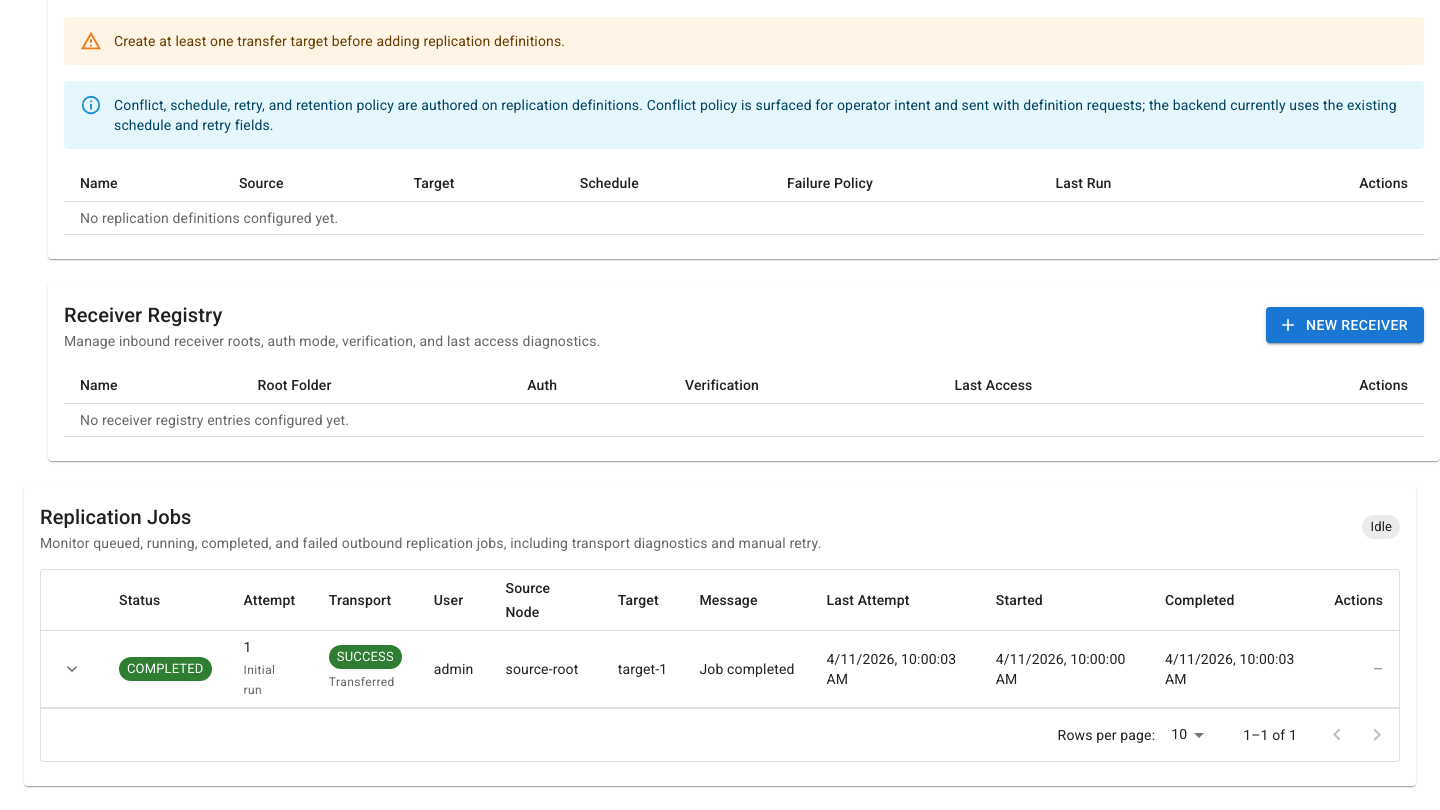
Test case: expands a replication job row to show entry report details and truncation warning
(page scrolled)
Click the button named "Expand job job-1": point(72, 669) [57,654,87,684]
(page scrolled)
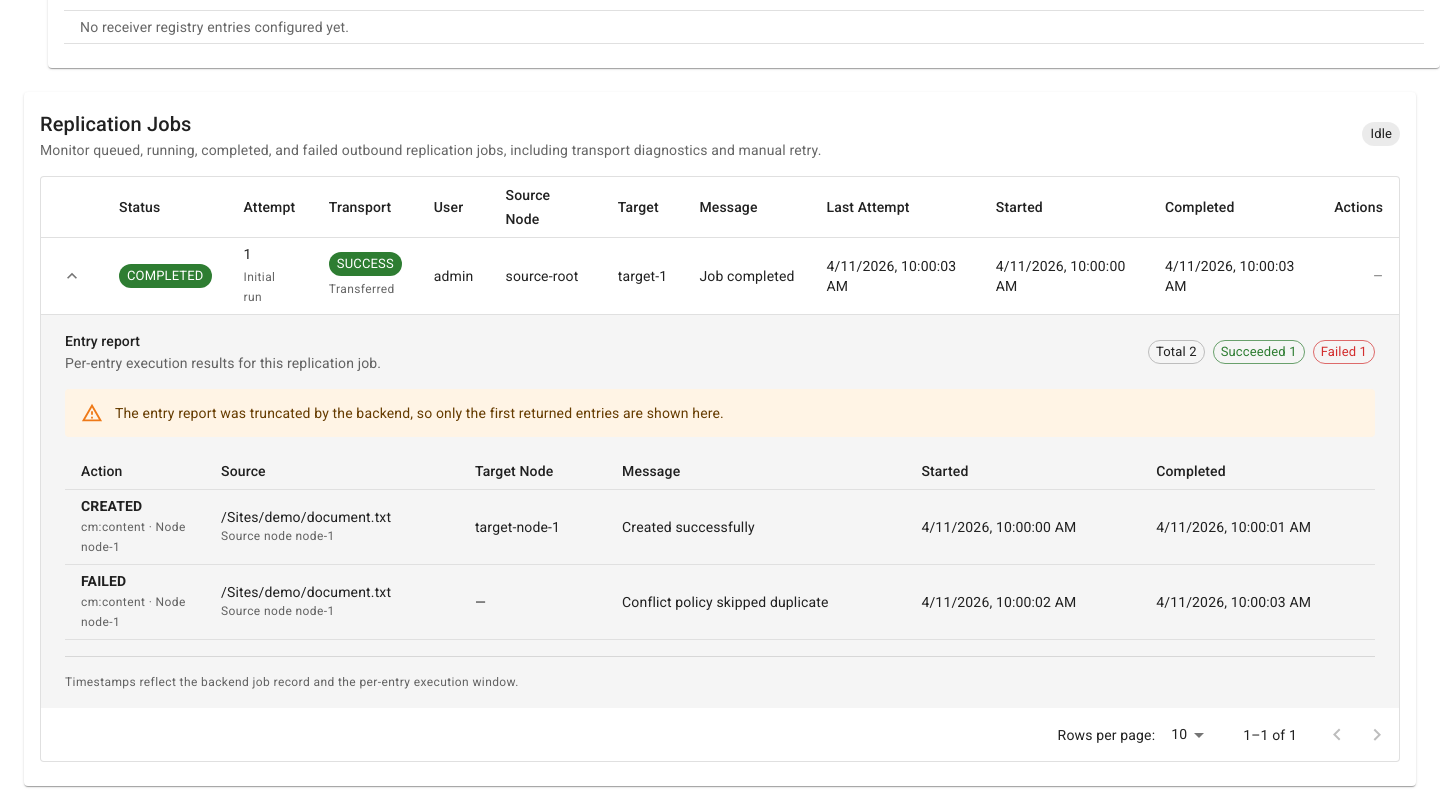
Check: the heading "Entry report" is shown, box [65,333,140,349]
Check: the text "The entry report was truncated by the backend, so only the first returned entries are shown here." is shown, box [115,405,724,421]
Check: the text "Total 2" is shown, box [1156,344,1197,359]
